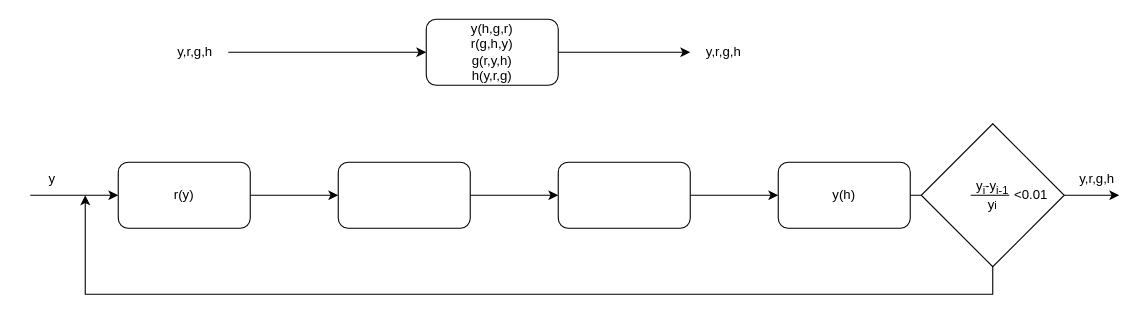
This 1148x322 diagram has some shape labels left out. Each missing label, with the centre of its shape:
"g(r)" belongs at [403,194].
"h(g)" belongs at [623,194].
